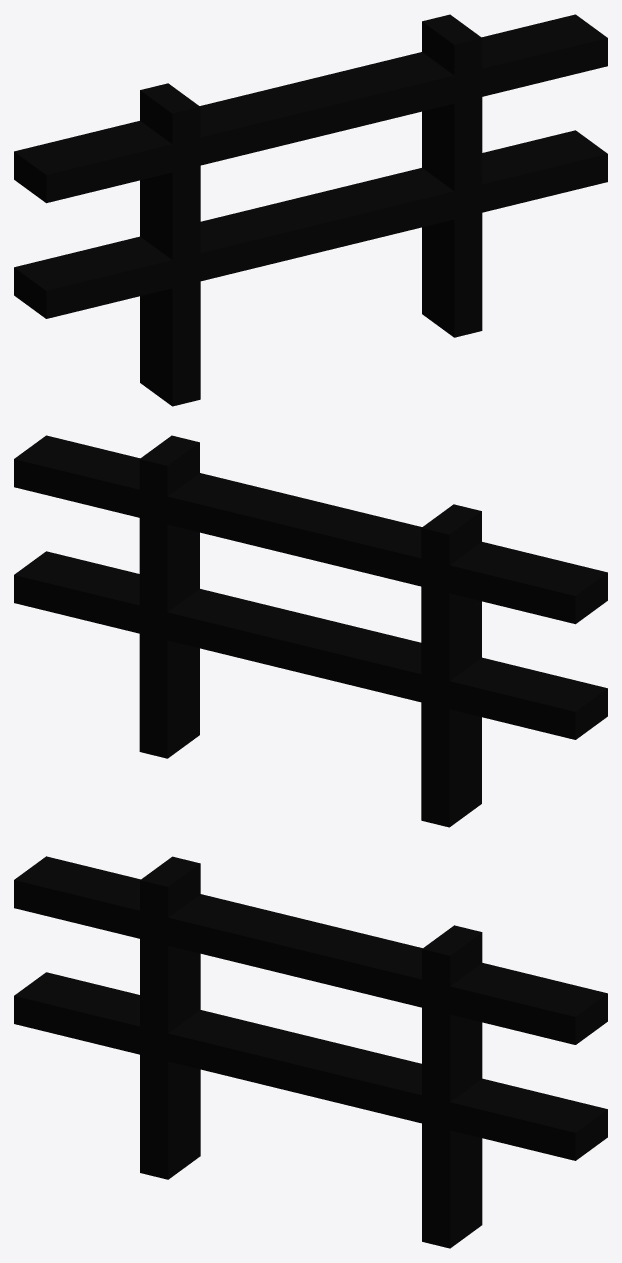
Rendered from NEWFence.fbx.
The picture shows the model from 3 angles, top to bottom: view 1: azimuth 30°, elevation 25°; view 2: azimuth 150°, elevation 25°; view 3: azimuth 330°, elevation 25°; orthographic projection.
Parts seen in each view (by area): view 1: Cube; view 2: Cube; view 3: Cube.
Part boxes in pixels (left/top/right/bottom): Cube: left=14, top=14, right=607, bottom=406; Cube: left=14, top=435, right=607, bottom=827; Cube: left=14, top=856, right=607, bottom=1248.
Size of the model in its own units: 402 by 200 by 40.
